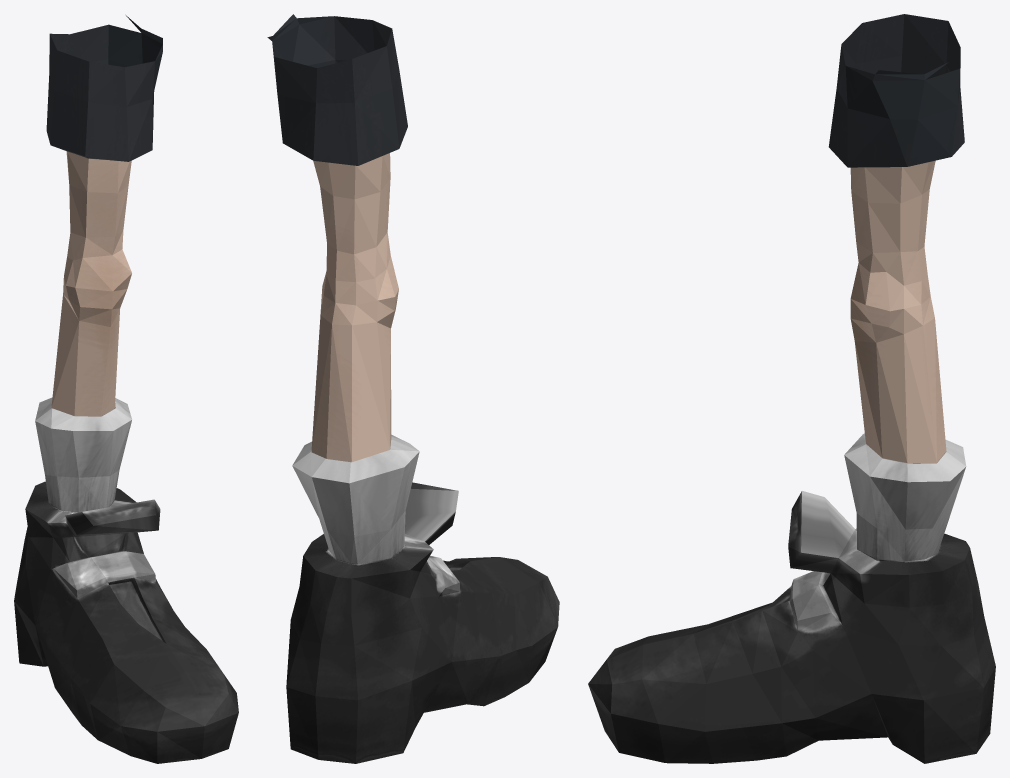
The model's file is piernaizq.obj.
The picture shows the model from 3 angles, left to right: view 1: azimuth 30°, elevation 25°; view 2: azimuth 150°, elevation 25°; view 3: azimuth 270°, elevation 25°; orthographic projection. The views are drawn at different scales.
Parts seen in each view (by area): view 1: nino003; view 2: nino003; view 3: nino003.
Boxes of the visible parts, x1,y1,x2,y2 form: nino003: [14, 15, 238, 763]; nino003: [267, 14, 559, 763]; nino003: [588, 14, 995, 763].
Size of the model in its own units: 0.2973 by 1.24 by 0.639.
2 materials, 2 textured.
